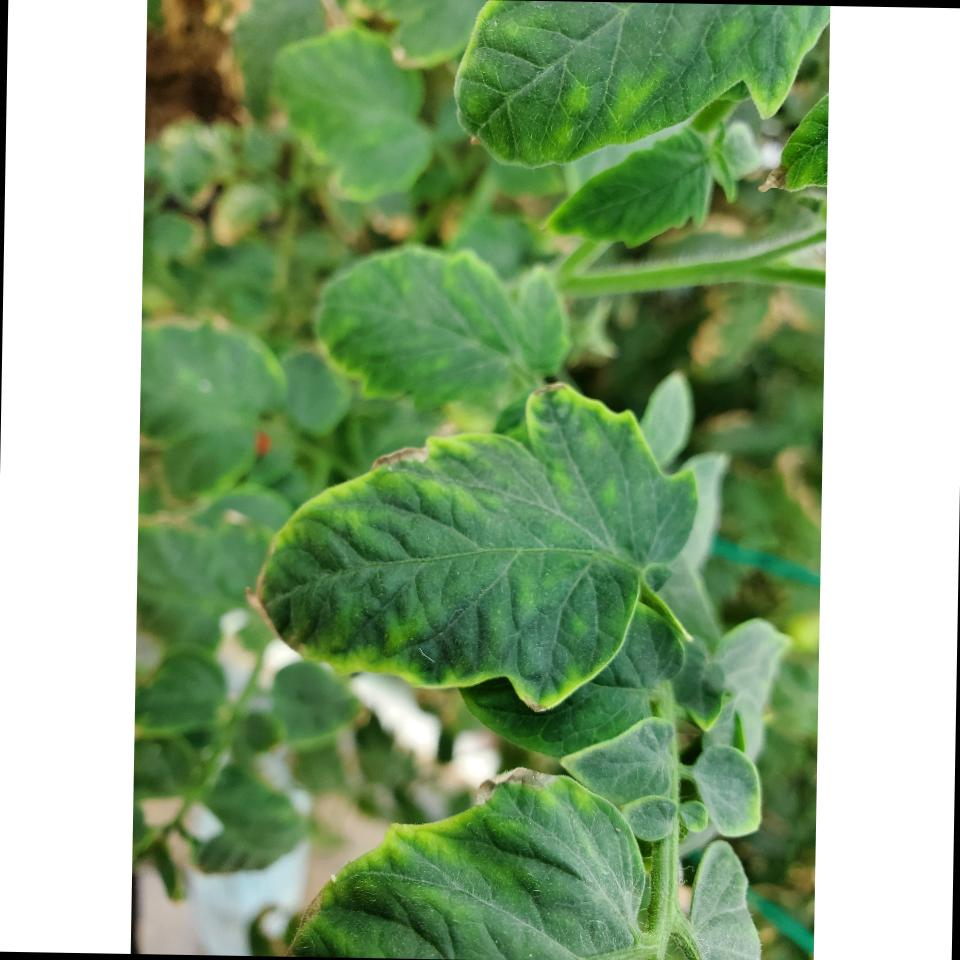tomato_bacterial_blight: (239, 374, 711, 720)
